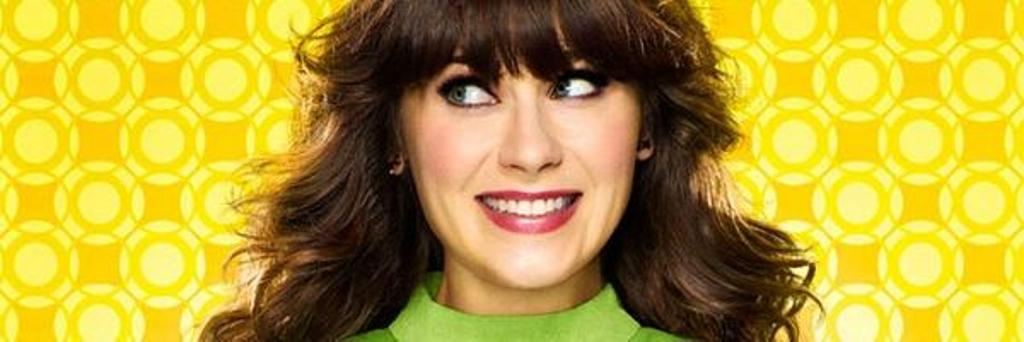face: (398, 6, 636, 288)
